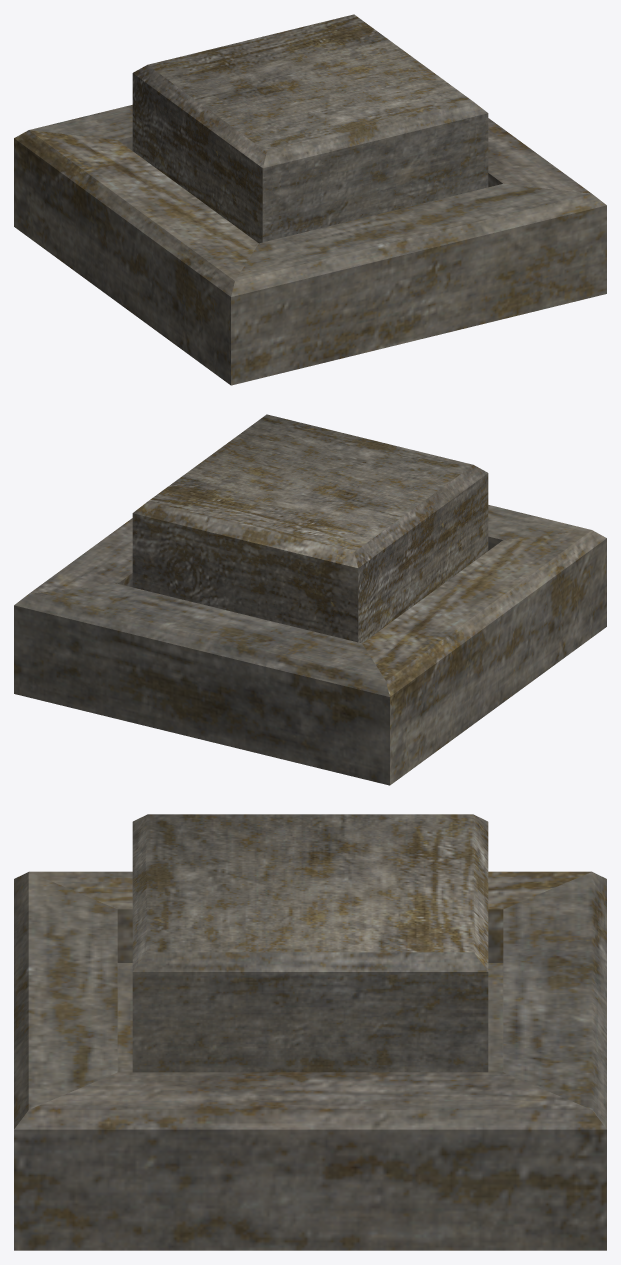
File: button_1.fbx
3 views of the same model, one above another, from view 1: azimuth 30°, elevation 25°; view 2: azimuth 150°, elevation 25°; view 3: azimuth 270°, elevation 25° (orthographic). The views are drawn at different scales.
Parts seen in each view (by area): view 1: button_1a, button_1b; view 2: button_1a, button_1b; view 3: button_1a, button_1b.
Boxes of the visible parts, box(x1,y1,x2,y2) form: button_1a: box(14, 105, 606, 385); button_1b: box(132, 14, 488, 243); button_1a: box(14, 505, 606, 785); button_1b: box(132, 414, 488, 643); button_1a: box(14, 871, 606, 1250); button_1b: box(132, 814, 488, 1072).
Bounding box in the file's own units: 20 × 9 × 20.
